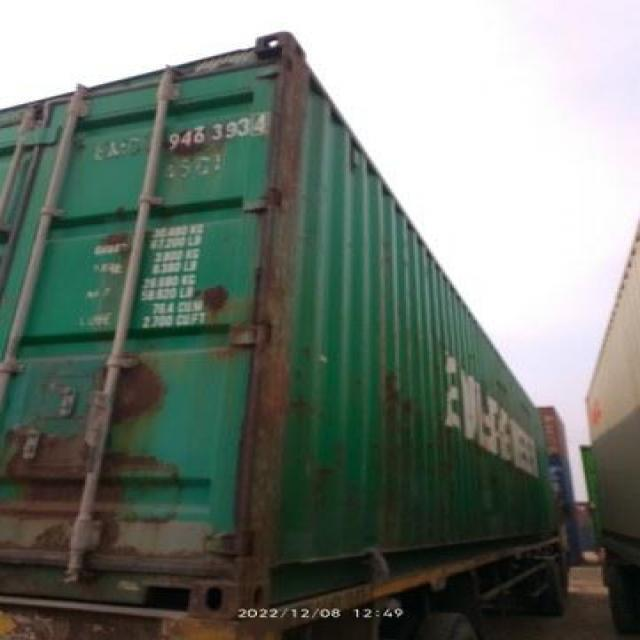Rust: (245, 68, 292, 576), (13, 433, 72, 500), (375, 394, 416, 476), (105, 466, 140, 535), (112, 364, 153, 417), (462, 511, 545, 536), (174, 137, 218, 183), (114, 223, 136, 261), (201, 287, 225, 312)
